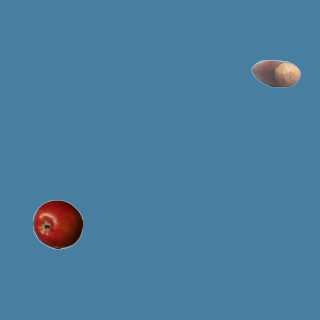Apple Braeburn: (32, 199, 82, 249)
Hazelnut: (250, 48, 300, 98)
